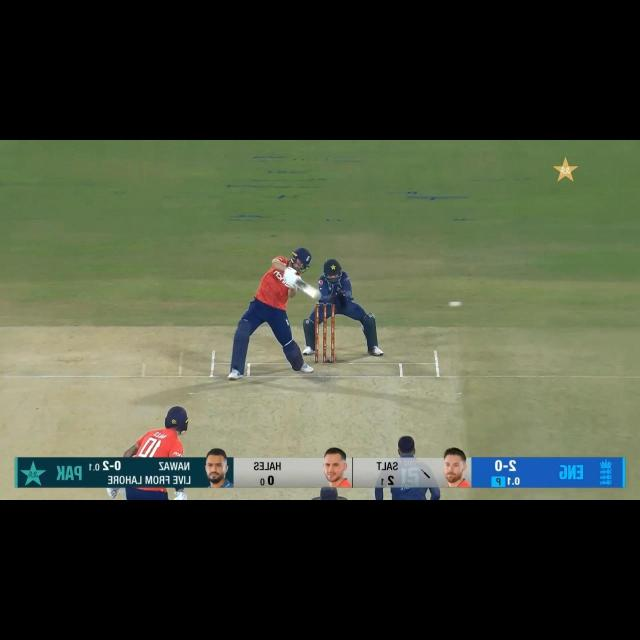bat: (292, 278, 321, 301)
toe: (310, 289, 321, 300)
